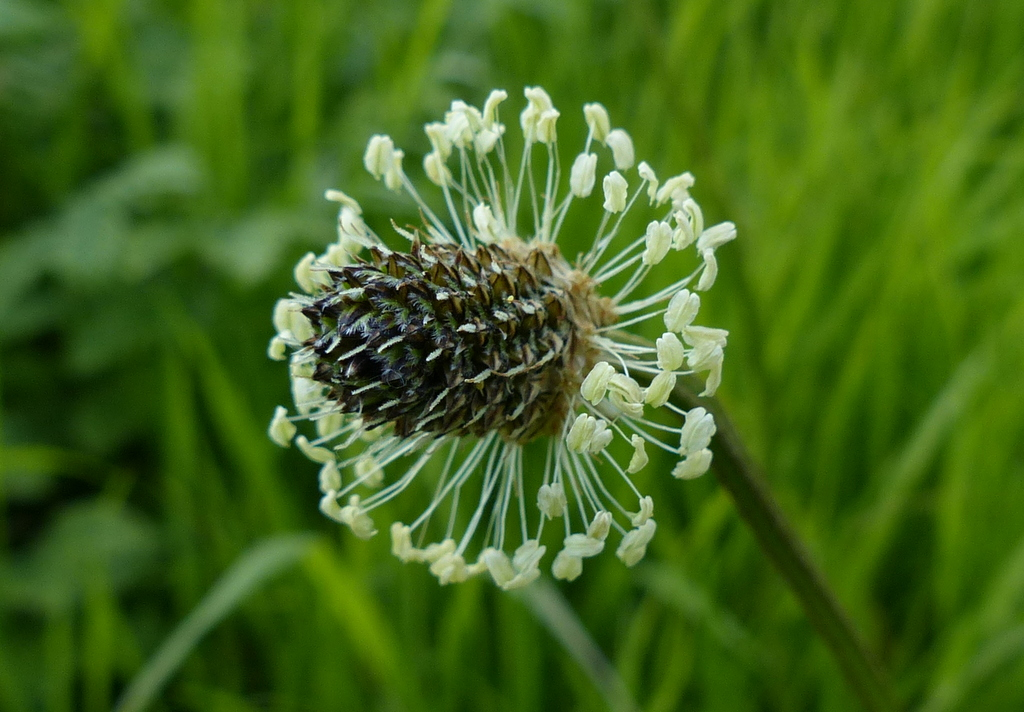buckhorn plantain: (306, 79, 754, 612)
